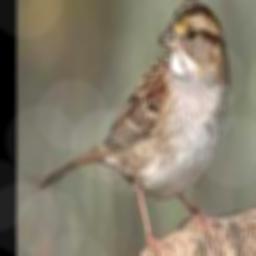Sparrow: (36, 1, 230, 256)
